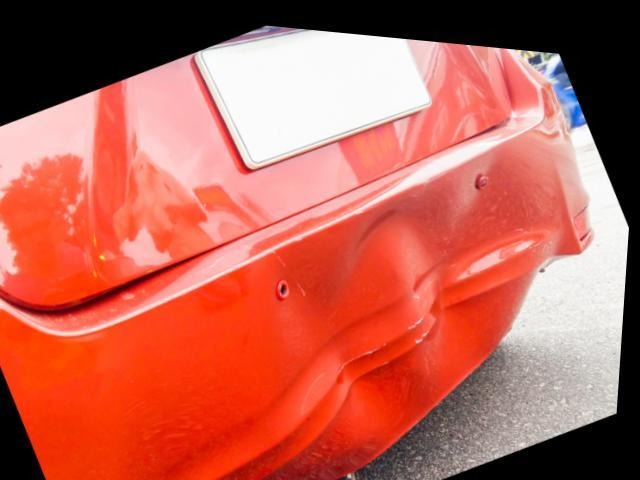dent: (316, 153, 564, 442)
